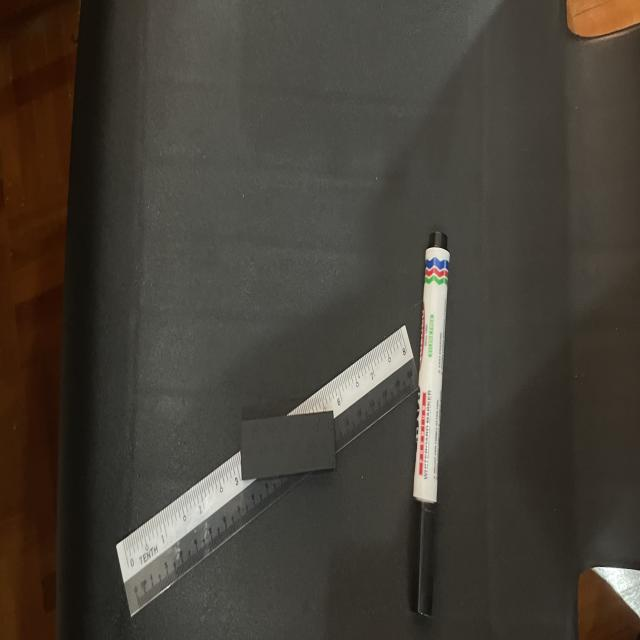marker: (406, 232, 450, 617)
